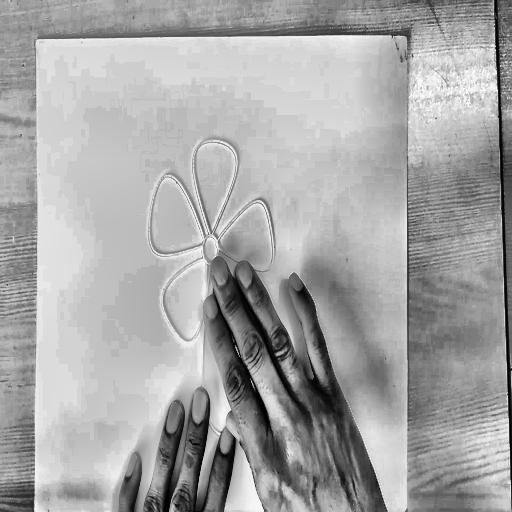flower: (142, 130, 288, 466)
top_left: (33, 35, 40, 48)
top_right: (404, 33, 409, 43)
